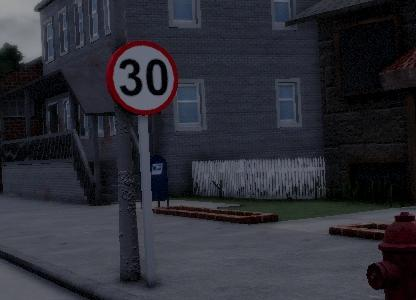Speed_30: (102, 37, 181, 123)
